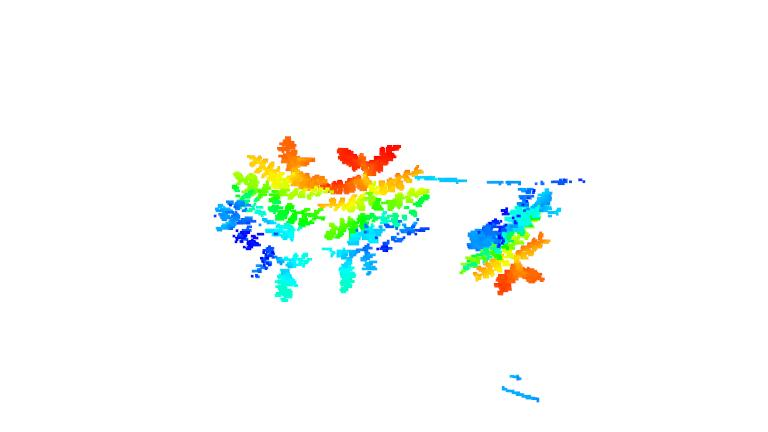chickpea: (214, 137, 328, 303), (323, 140, 431, 295), (457, 184, 565, 300)
